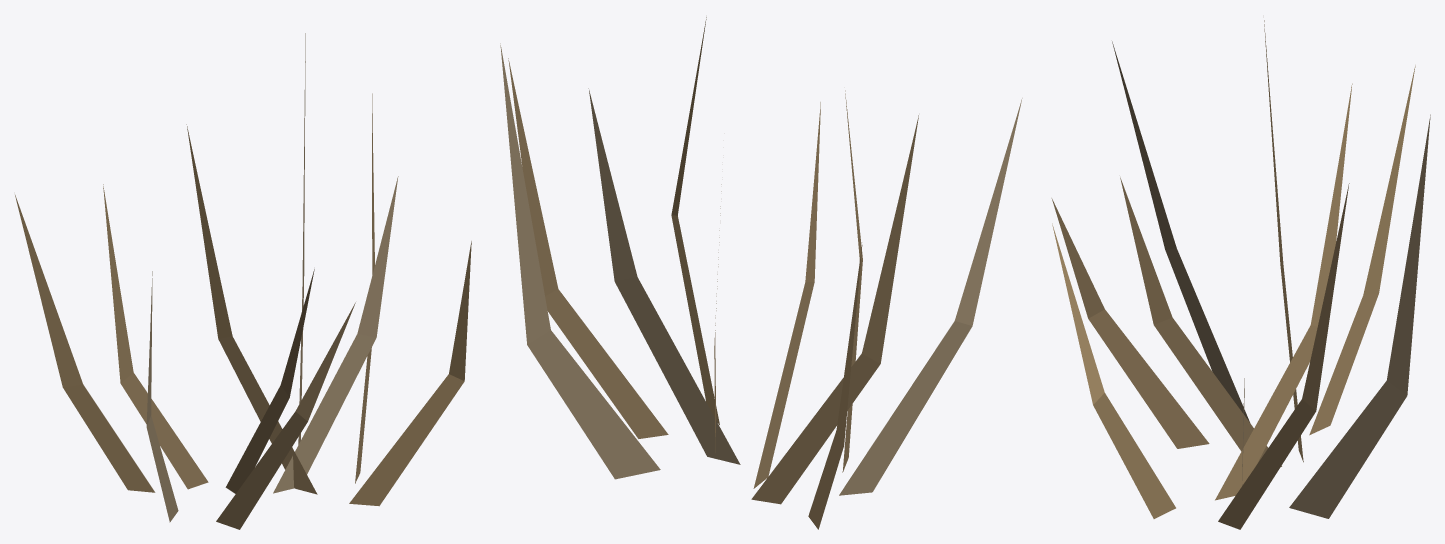
The model's file is Dead_Bush_b_02.fbx.
The picture shows the model from 3 angles, left to right: view 1: azimuth 30°, elevation 25°; view 2: azimuth 150°, elevation 25°; view 3: azimuth 270°, elevation 25°; orthographic projection. The views are drawn at different scales.
Parts seen in each view (by area): view 1: Dead_Bush_b_02; view 2: Dead_Bush_b_02; view 3: Dead_Bush_b_02.
Part boxes in pixels (x1,y1,x2,y2): Dead_Bush_b_02: (15,33,471,529); Dead_Bush_b_02: (500,17,1022,529); Dead_Bush_b_02: (1051,20,1430,529).
Size of the model in its own units: 46.18 by 52.34 by 41.53.
